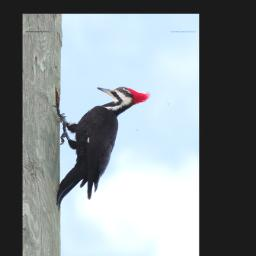Woodpecker: (52, 86, 151, 209)
